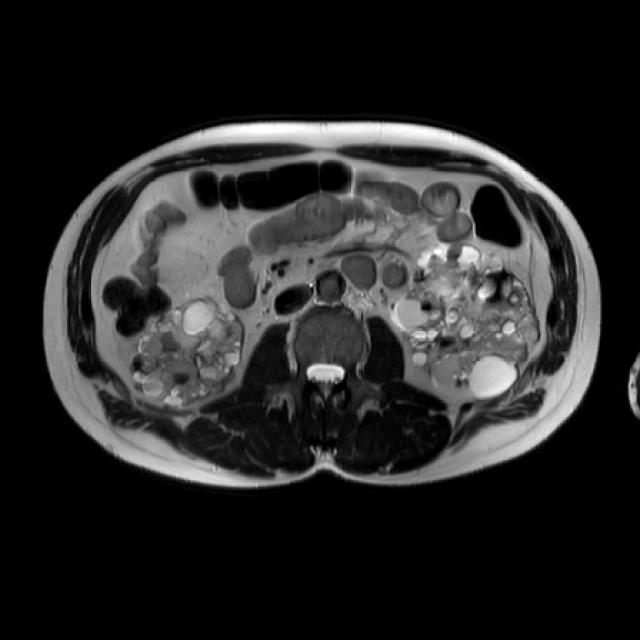sag: (129, 297, 246, 405)
sol: (395, 243, 540, 397)
